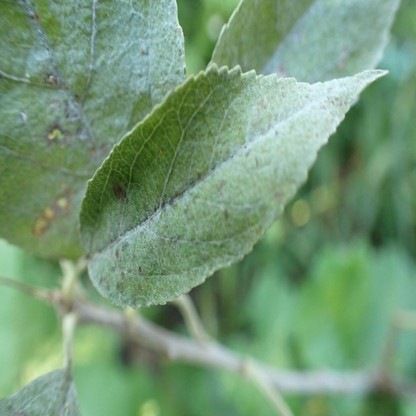frogeye_leaf_spot: (113, 182, 124, 200)
powdery_mildew: (78, 62, 389, 308), (0, 3, 186, 262), (207, 0, 399, 83), (1, 364, 83, 416)
